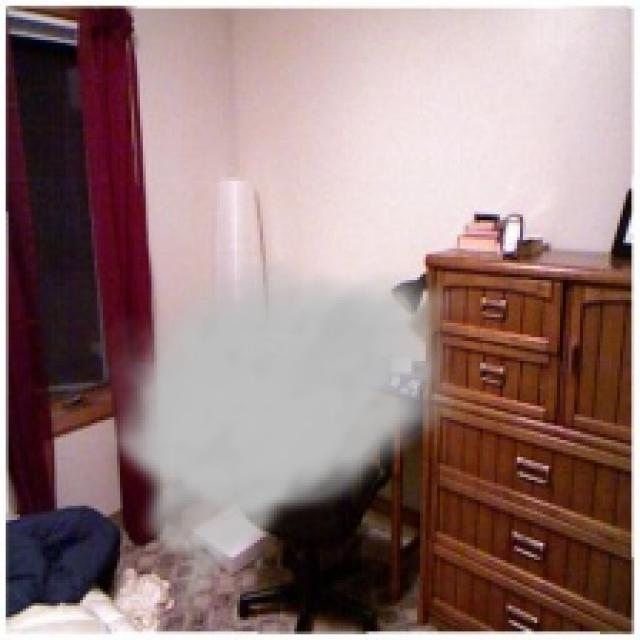smoke: (97, 252, 477, 628)
